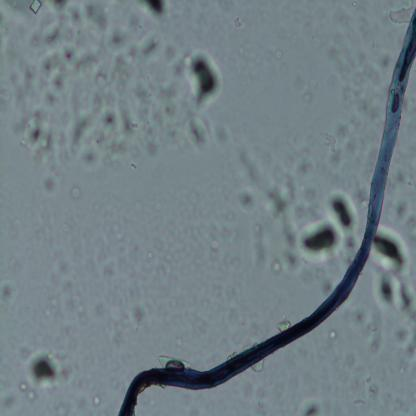Background material: (13, 34, 145, 184), (332, 21, 384, 119), (372, 227, 416, 315), (262, 164, 304, 226), (186, 45, 227, 107), (102, 294, 150, 338), (298, 217, 342, 262), (28, 349, 74, 390), (236, 148, 263, 212), (270, 222, 299, 281), (44, 1, 84, 43), (348, 309, 386, 350), (327, 188, 358, 236), (180, 112, 214, 148), (391, 318, 416, 358), (251, 226, 267, 272), (362, 373, 387, 401), (140, 0, 170, 23), (69, 296, 96, 321), (389, 0, 416, 25), (209, 120, 230, 146), (319, 127, 338, 155), (156, 352, 187, 368), (298, 394, 322, 414), (19, 376, 36, 403), (0, 278, 18, 302), (2, 386, 18, 410), (301, 81, 315, 108), (232, 13, 247, 34), (275, 316, 292, 334), (70, 186, 80, 200), (332, 328, 341, 341)
Cotton: (117, 12, 416, 416)
